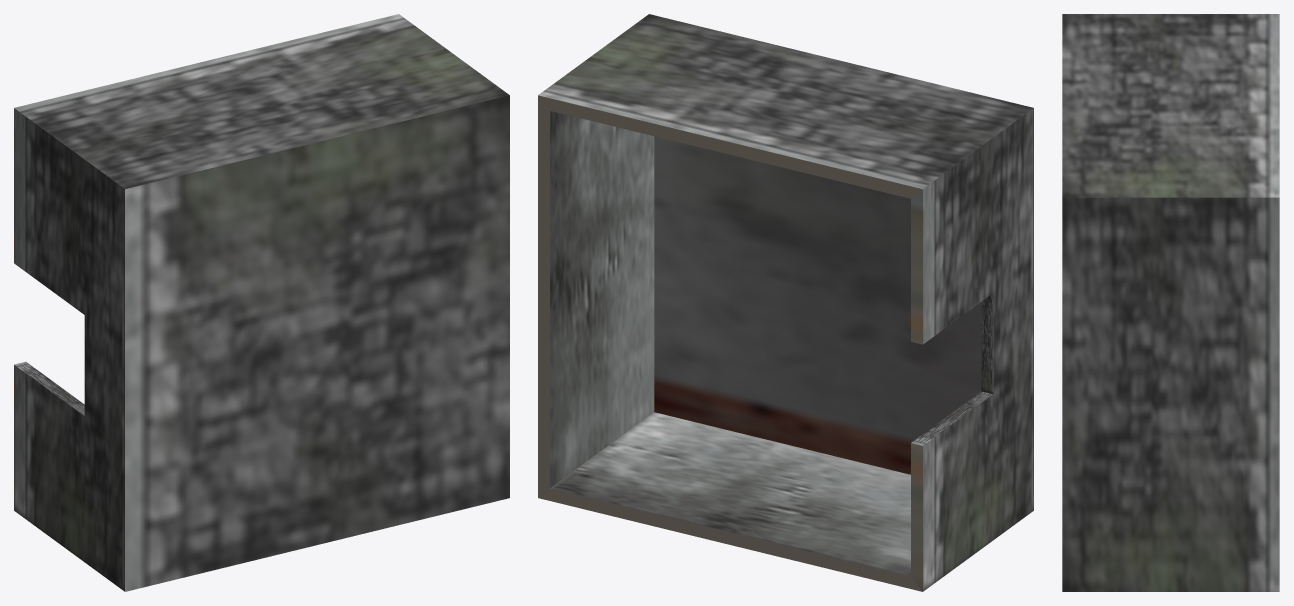
The model's file is 4x4W_wtf.obj.
The picture shows the model from 3 angles, left to right: view 1: azimuth 30°, elevation 25°; view 2: azimuth 150°, elevation 25°; view 3: azimuth 270°, elevation 25°; orthographic projection. The views are drawn at different scales.
Visible parts, largest first — view 1: group2; view 2: group2; view 3: group2.
Boxes of the visible parts, x1=… form: group2: x1=14, y1=14, x2=509, y2=591; group2: x1=538, y1=14, x2=1033, y2=591; group2: x1=1062, y1=14, x2=1279, y2=591.
Bounding box in the file's own units: 660 × 660 × 330.
